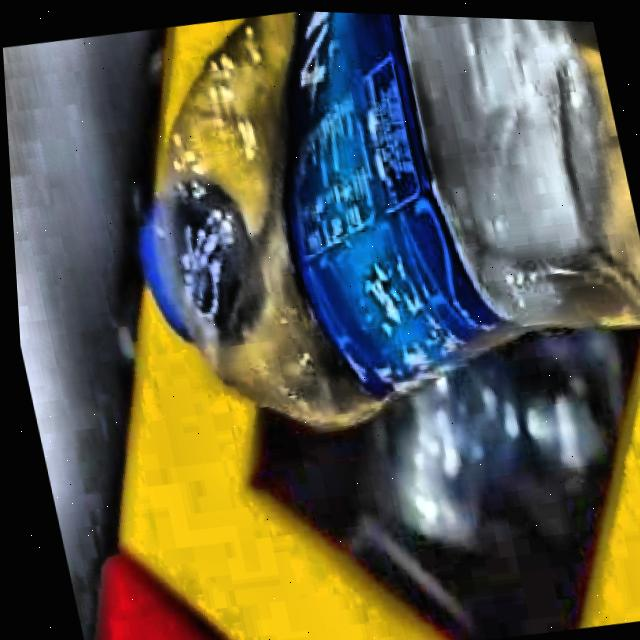plastic: (138, 9, 640, 426)
